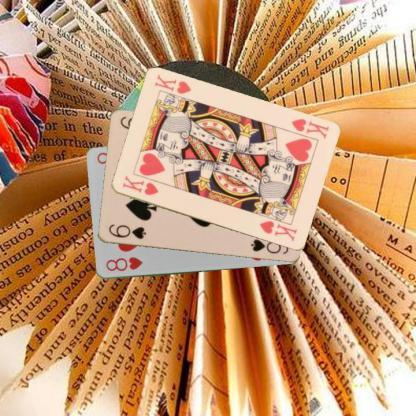6s: (106, 222, 147, 240)
8h: (103, 254, 144, 272)
Kh: (288, 116, 330, 140), (119, 173, 160, 196)
